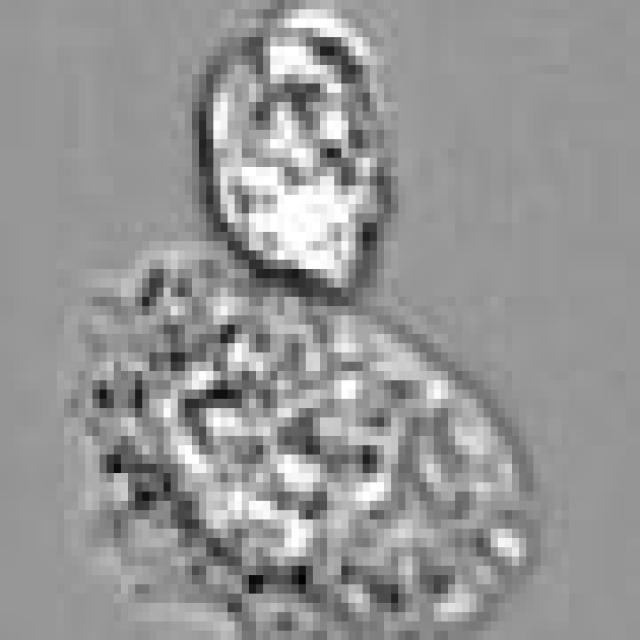Cancer Cell: (85, 259, 533, 640)
WBC: (199, 9, 391, 288)
